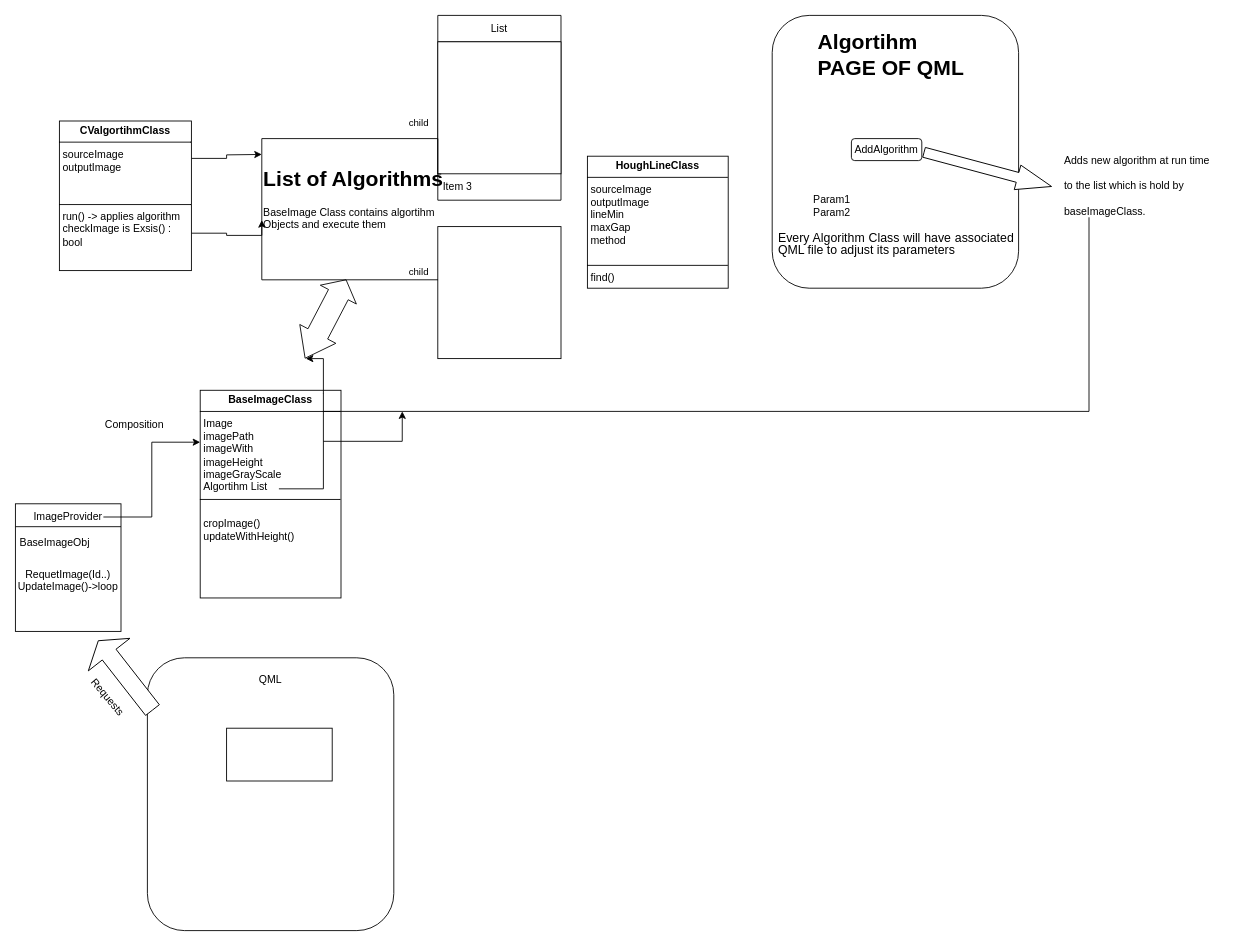
Image size: 1236x946. Some labels were removed from this diagram. Here are the shapes that lost their labels. From the top down, the centre of each, then its label:
the point at 499,107: Thresholding Class threshMax threshType threshMinValue run() override
the point at 499,292: CannyEdge Class karnelMatrice thresh run() override
the point at 279,754: Image
